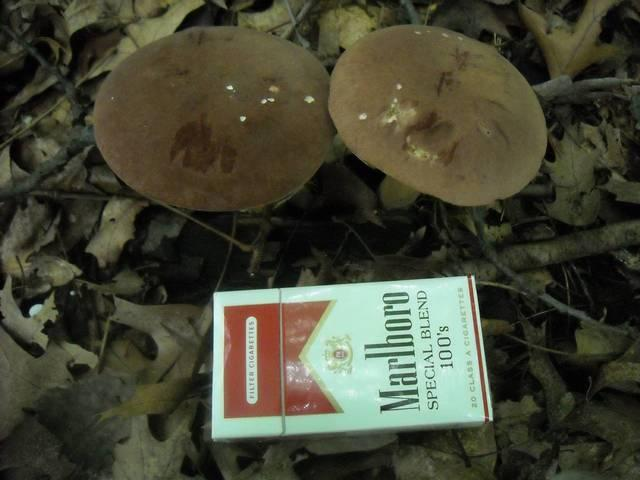Non-edible Mushroom: (91, 24, 334, 213), (327, 22, 548, 208)
